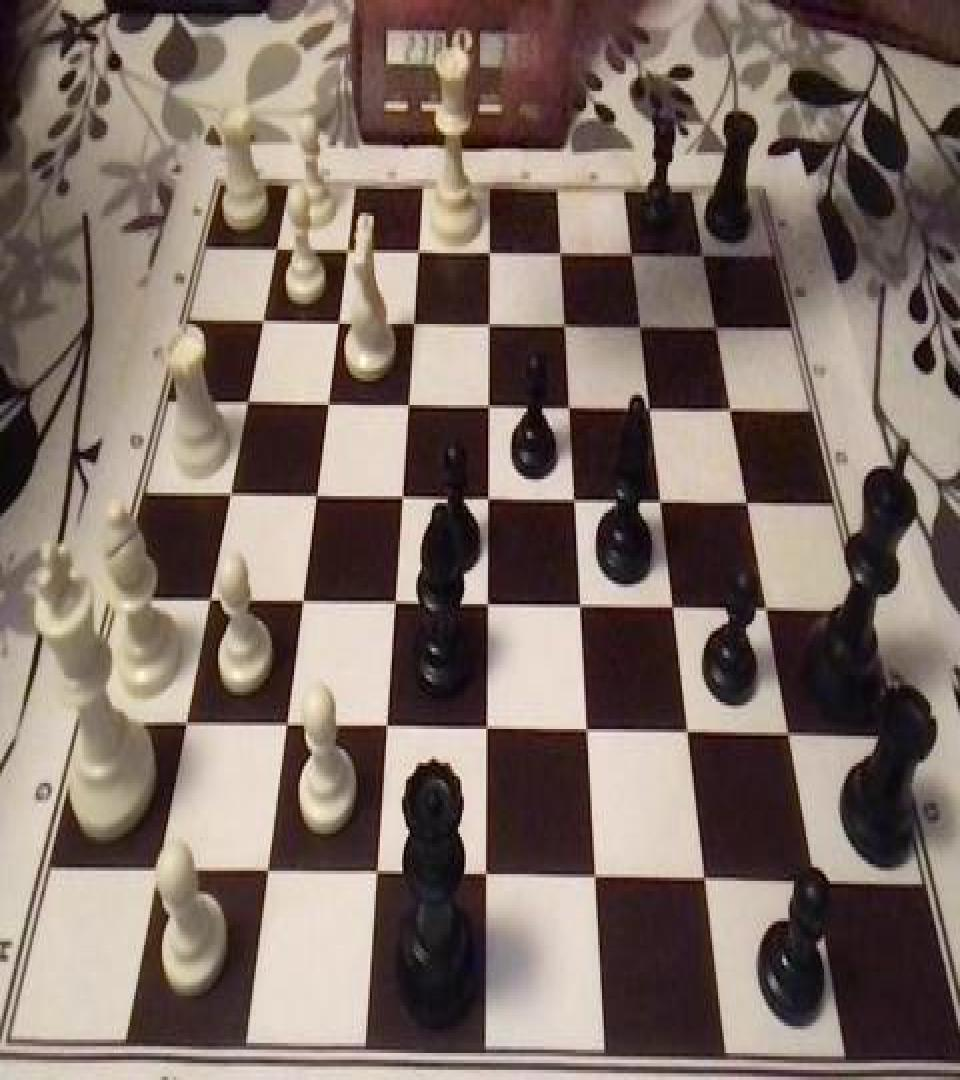xcorner: (472, 386, 498, 431), (687, 234, 713, 278), (616, 233, 642, 277), (544, 233, 570, 277), (473, 233, 499, 277), (402, 231, 428, 275), (331, 231, 357, 275), (261, 230, 287, 274), (700, 307, 726, 351), (624, 306, 650, 350), (548, 306, 574, 350), (473, 306, 499, 350), (397, 304, 423, 348), (322, 304, 348, 348), (247, 302, 273, 346), (714, 390, 740, 434), (633, 388, 659, 432), (553, 388, 579, 432), (392, 384, 418, 428), (312, 384, 338, 428), (232, 383, 258, 427), (730, 482, 756, 526), (644, 481, 670, 525), (558, 481, 584, 525), (472, 479, 498, 523), (386, 478, 412, 522), (301, 478, 327, 522), (215, 476, 241, 520), (749, 590, 775, 634), (656, 589, 682, 633), (564, 587, 590, 631), (471, 587, 497, 631), (379, 586, 405, 630), (287, 584, 313, 628), (196, 582, 222, 626), (771, 716, 797, 760), (670, 714, 696, 758), (570, 712, 596, 756), (470, 710, 496, 754), (371, 708, 397, 752), (272, 707, 298, 751), (173, 706, 199, 750), (796, 862, 822, 906), (687, 860, 713, 904), (578, 859, 604, 903), (470, 857, 496, 901), (361, 854, 387, 898), (254, 852, 280, 896), (146, 850, 172, 894)
